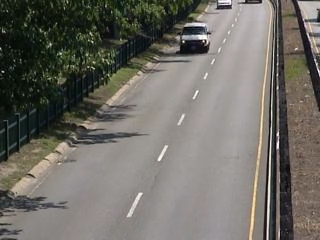car: (214, 1, 234, 10)
truck: (179, 23, 213, 54)
